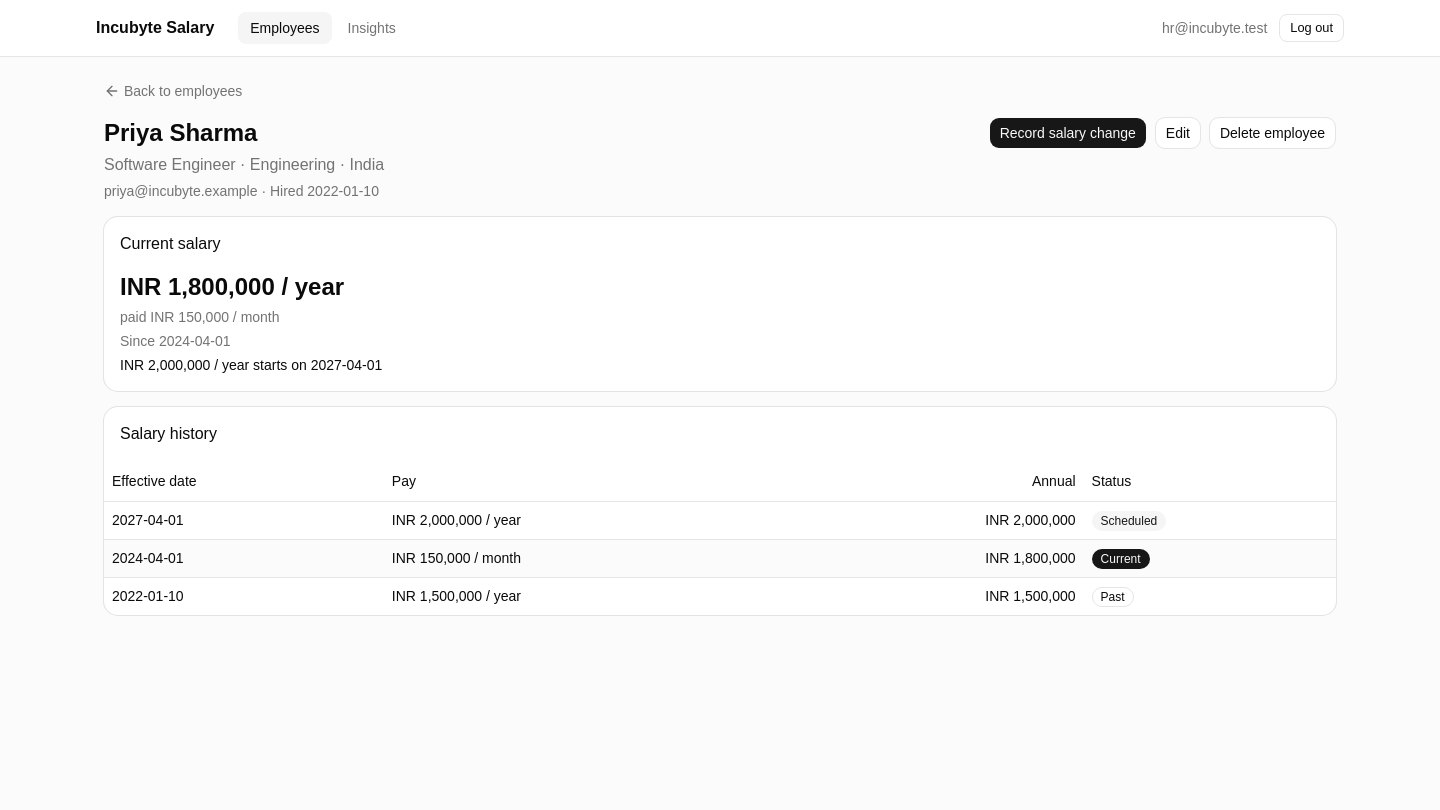
Employee page › records a salary change and shows the updated history
Click the button "Record salary change" at (1068, 133), box [989, 117, 1147, 149]
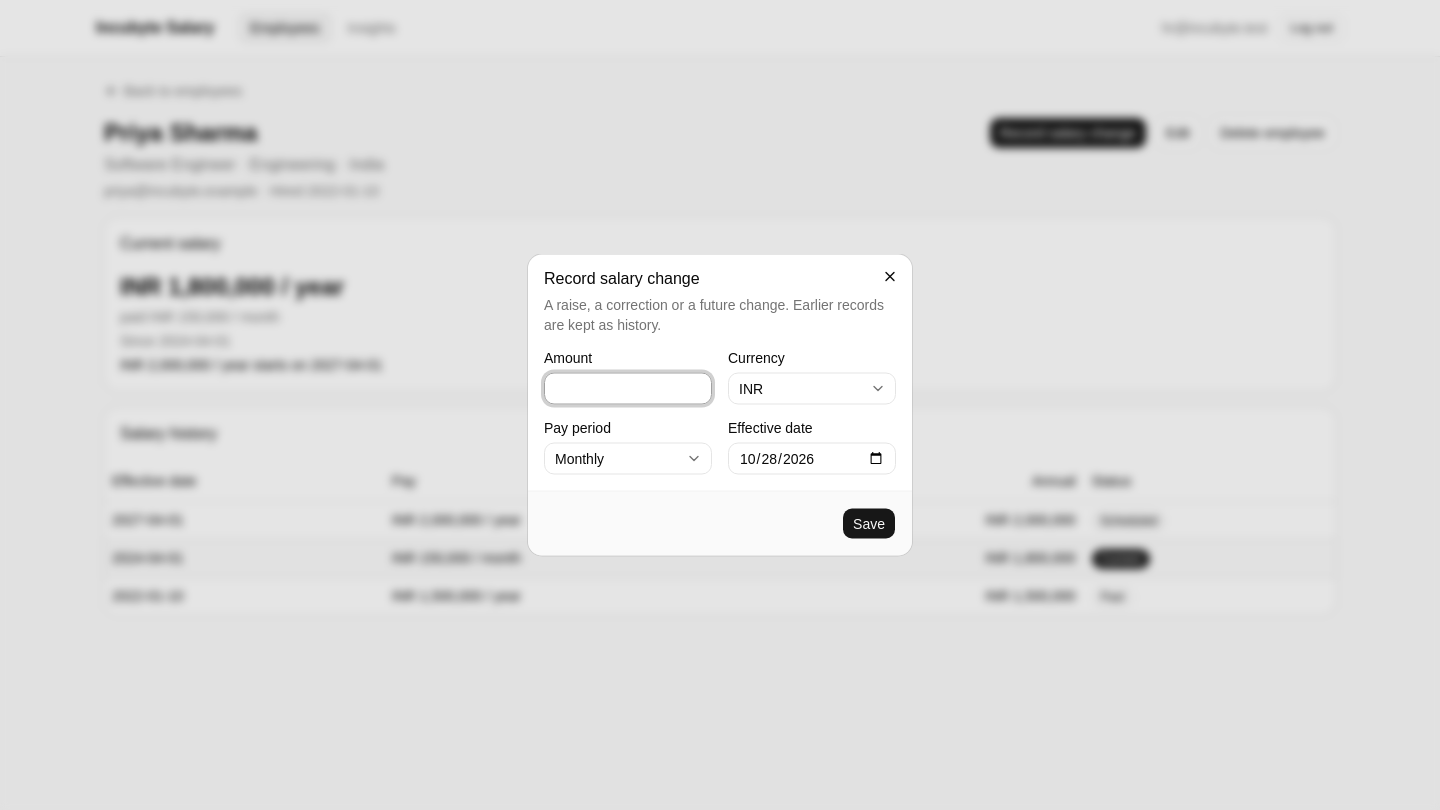
Expected: the dropdown labelled "Currency" shows "INR", [728, 372, 896, 404]
Expected: the dropdown labelled "Pay period" shows "Monthly"
Select "Annual" in the dropdown labelled "Pay period" at (628, 458), box [544, 442, 712, 474]
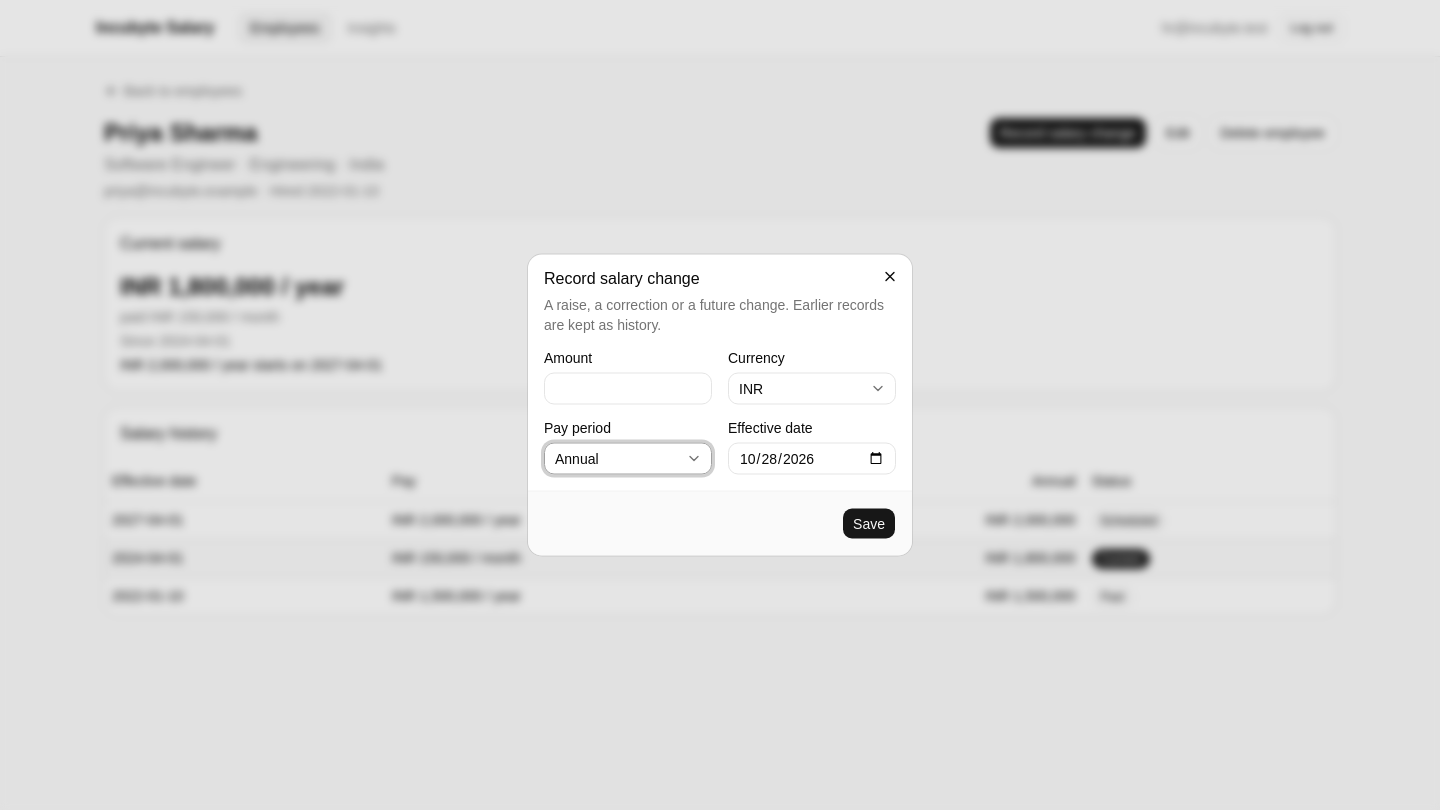
Type "1950000" into the field labelled "Amount" at (628, 388), box [544, 372, 712, 404]
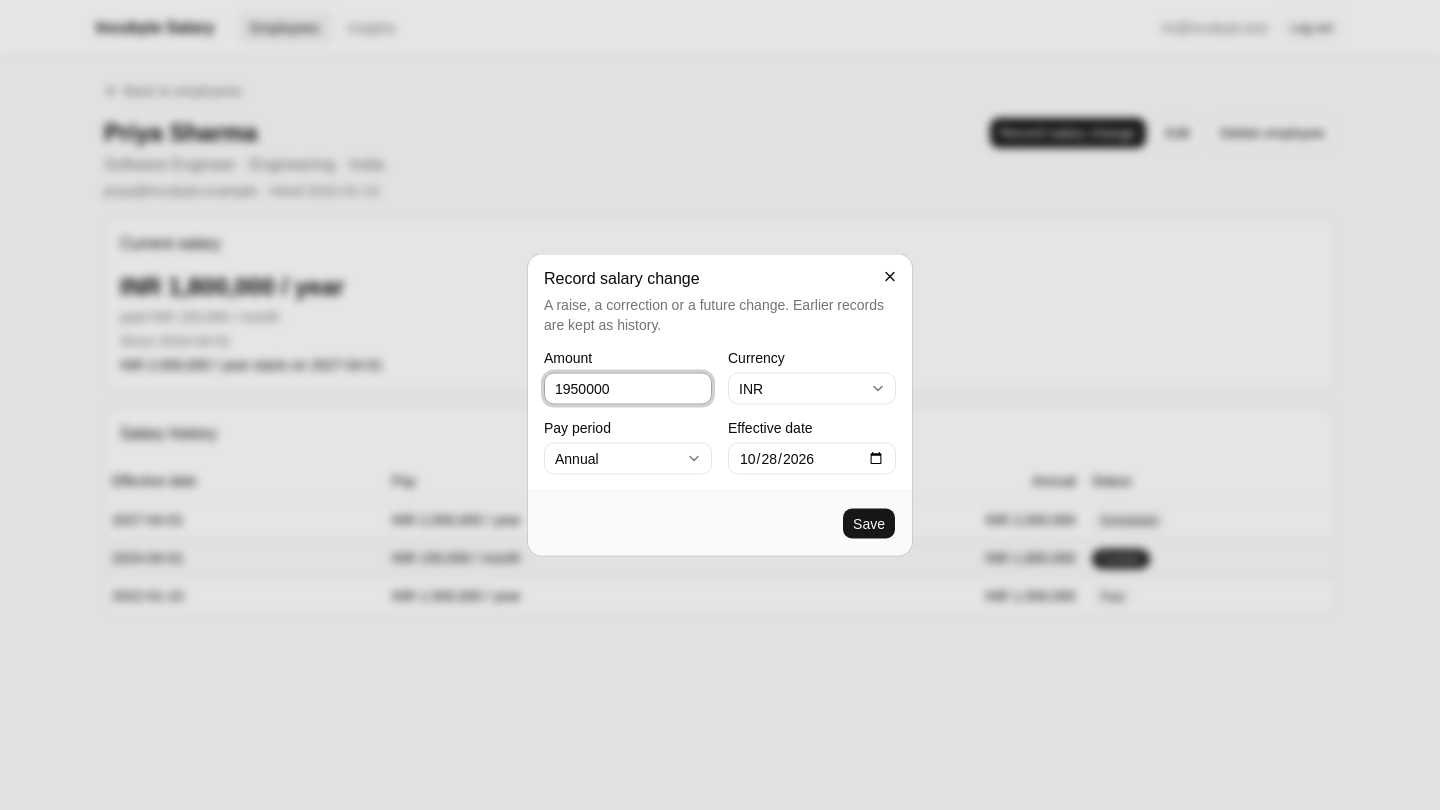
Type "2026-11-01" into the date field labelled "Effective date" at (812, 458), box [728, 442, 896, 474]
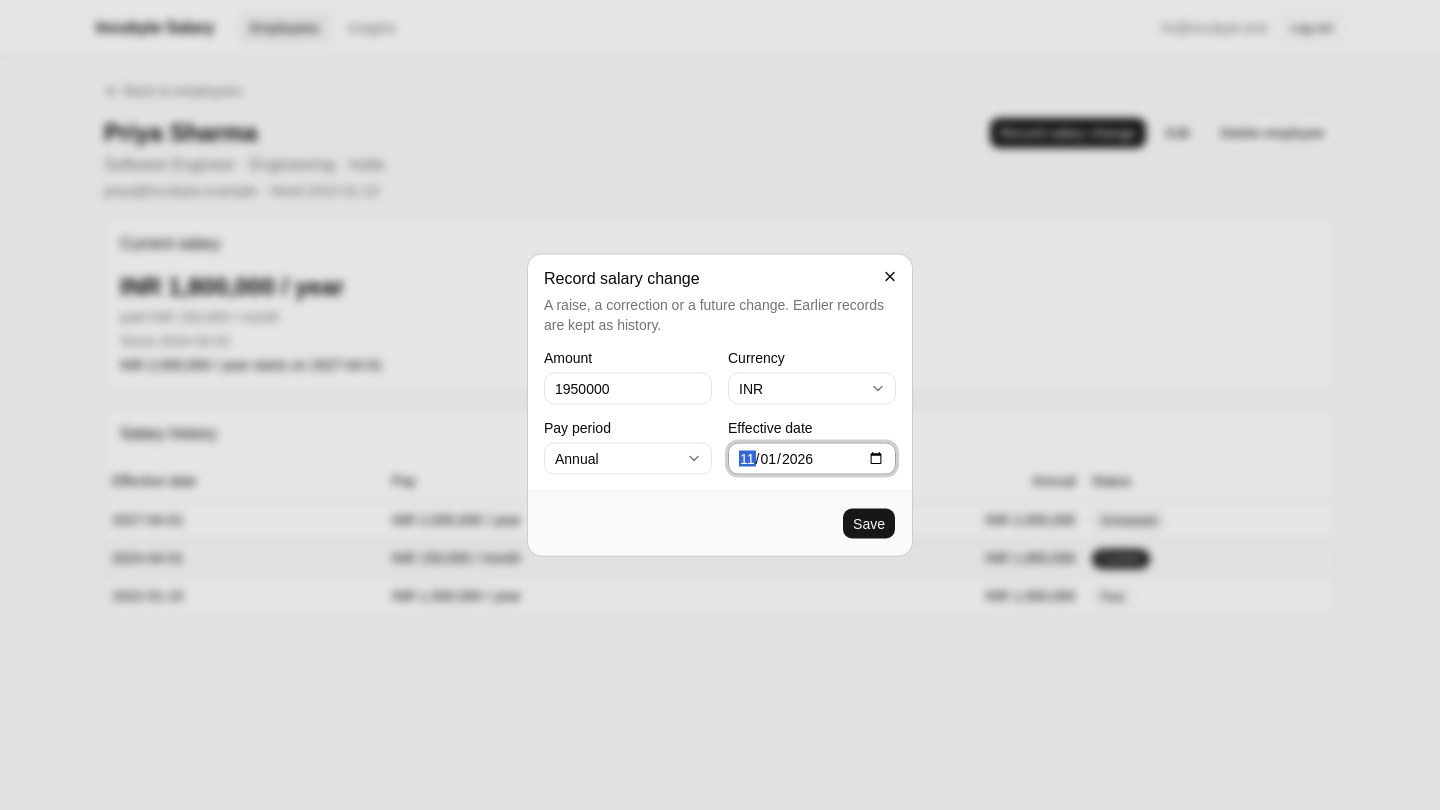
Click the button "Save" at (869, 524), box [842, 508, 896, 540]
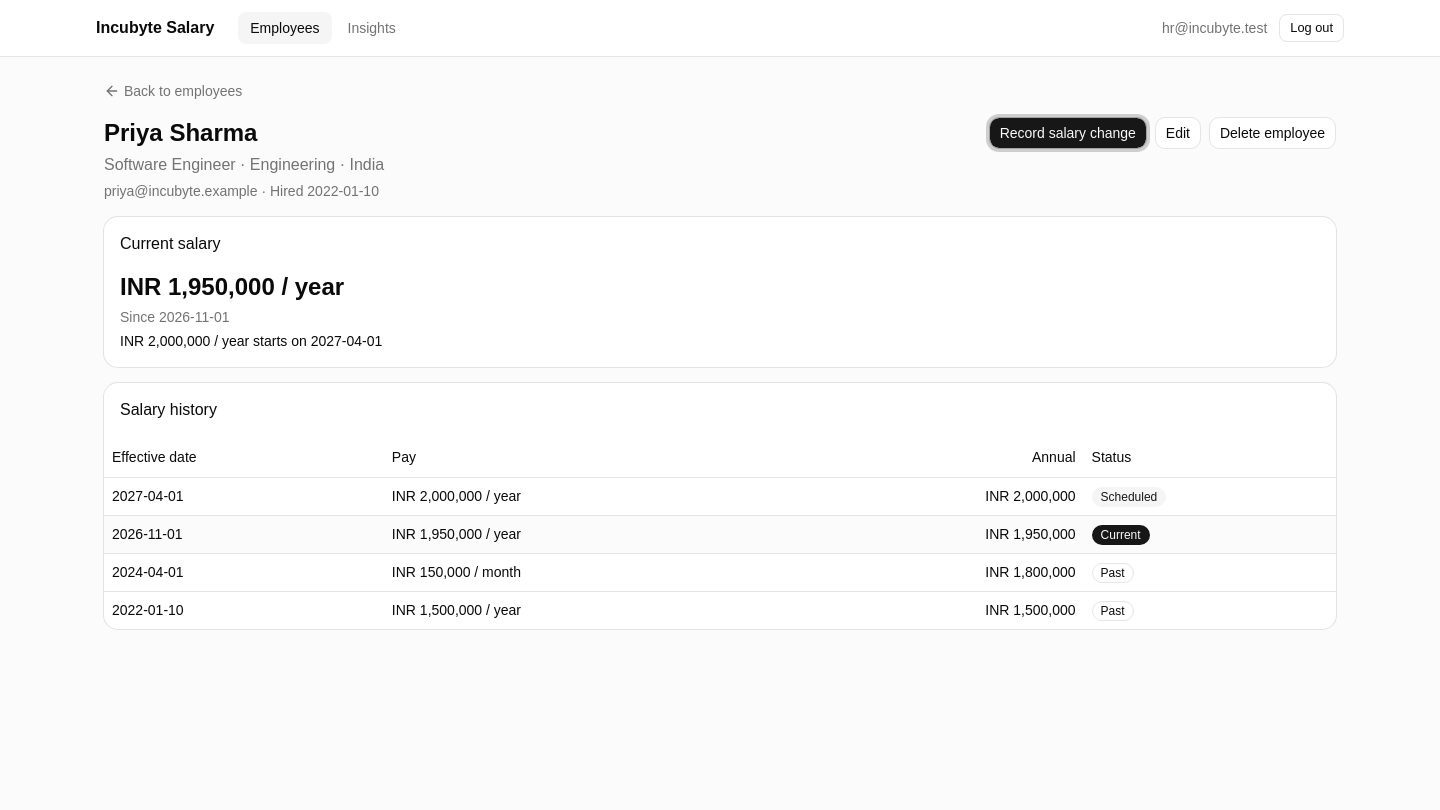
Expected: the dialog is gone
Expected: the text "INR 1,950,000 / year" is shown, [120, 273, 344, 300]
